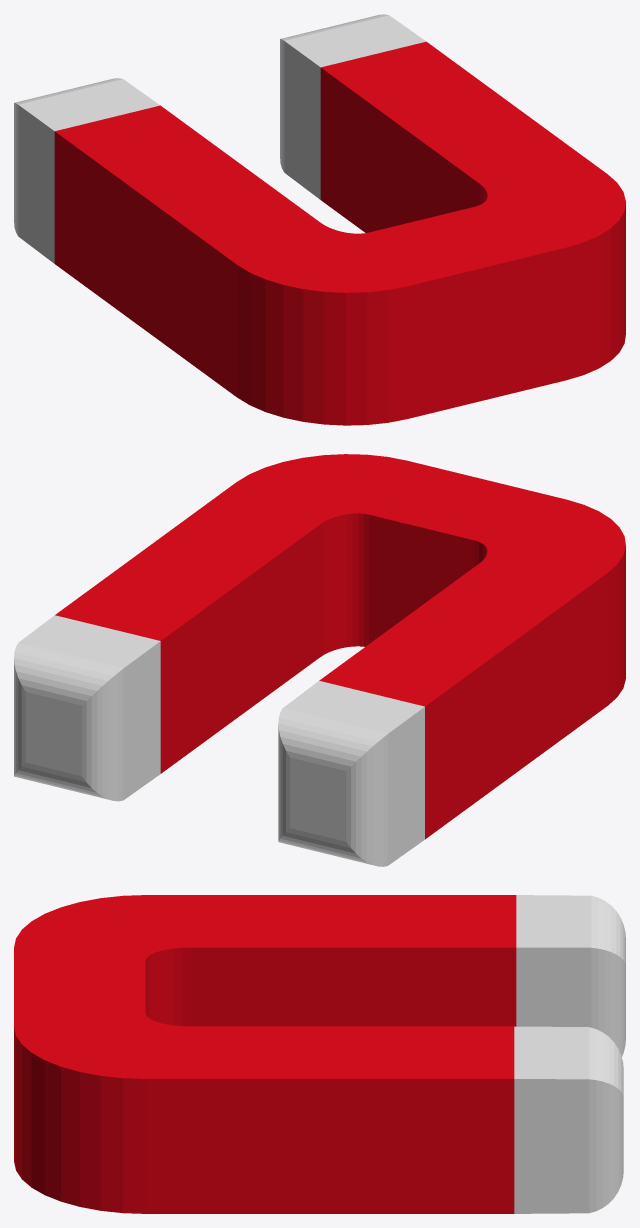
The model's file is Magnit.fbx.
The picture shows the model from 3 angles, top to bottom: view 1: azimuth 30°, elevation 25°; view 2: azimuth 150°, elevation 25°; view 3: azimuth 270°, elevation 25°; orthographic projection.
Parts seen in each view (by area): view 1: Cube.001; view 2: Cube.001; view 3: Cube.001.
Boxes of the visible parts, x1,y1,x2,y2 form: Cube.001: [14, 14, 625, 425]; Cube.001: [14, 454, 625, 866]; Cube.001: [14, 895, 625, 1213].
Bounding box in the file's own units: 423 × 145 × 595.
